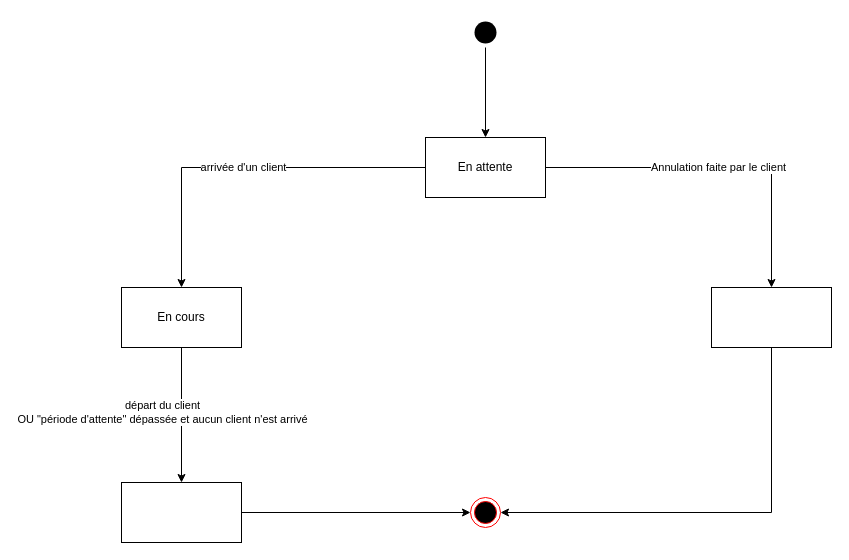
Some shapes in this 849 by 560 pixel diagram are drawn without their labels. Here are the shapes that lost their labels. From the top down, the centre of each, then its label:
point 771,317: Annulée
point 181,512: Terminée
